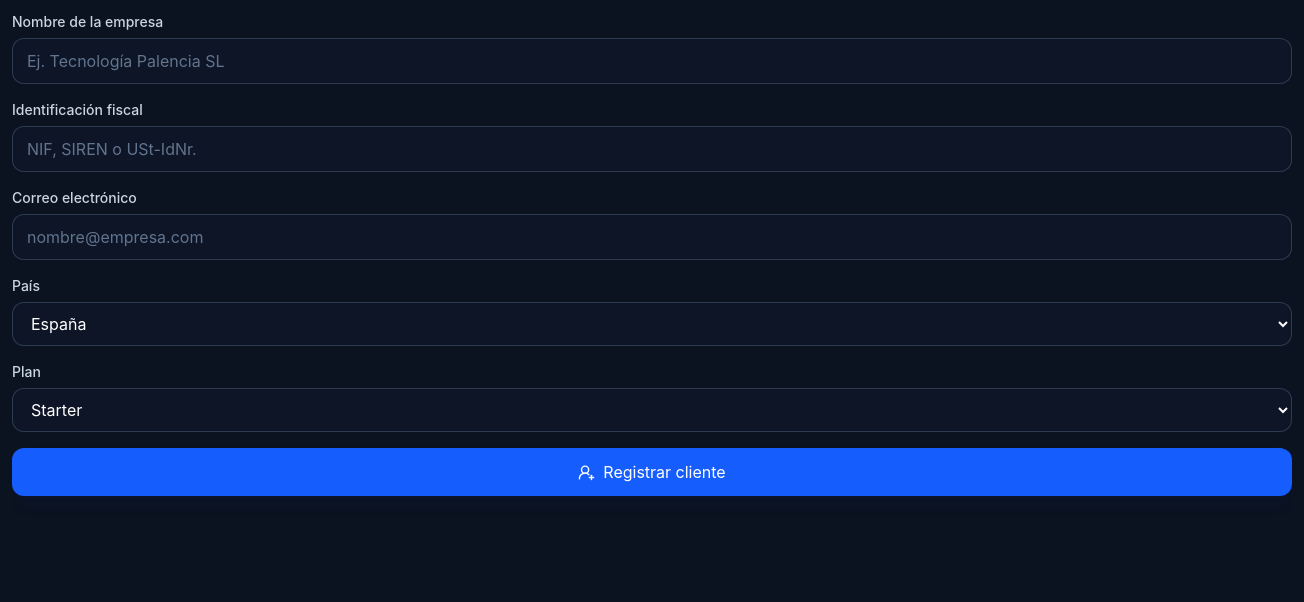
Test case: CustomerForm validation feedback › identifies an invalid country field
Step 1. Type "Empresa de prueba" into the field labelled "Nombre de la empresa" → (652, 61), box [12,38,1292,84]
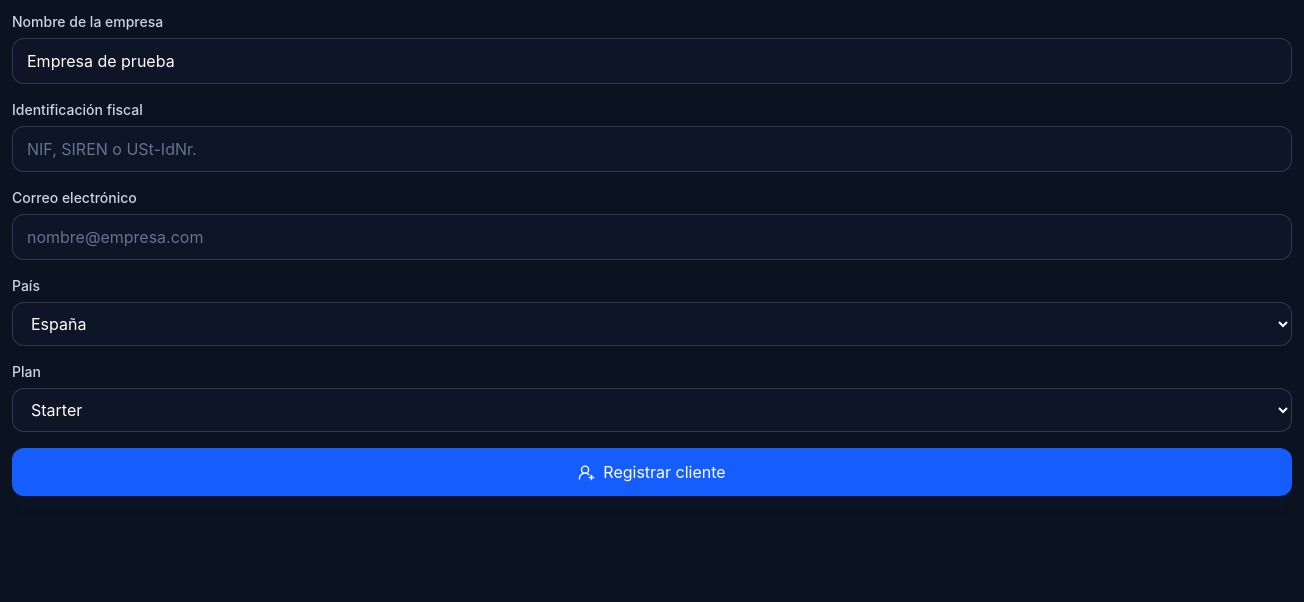
Step 2. Type "12345678Z" into the field labelled "Identificación fiscal" → (652, 149), box [12,126,1292,172]
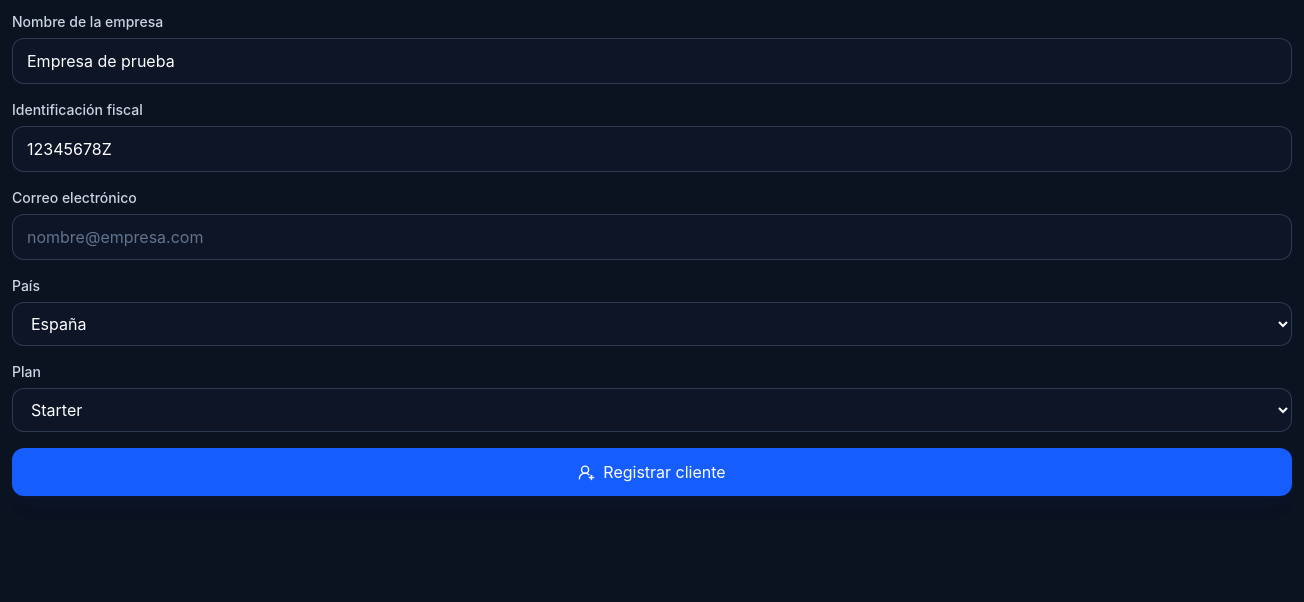
Step 3. Type "contacto@empresa.test" into the field labelled "Correo electrónico" → (652, 237), box [12,214,1292,260]
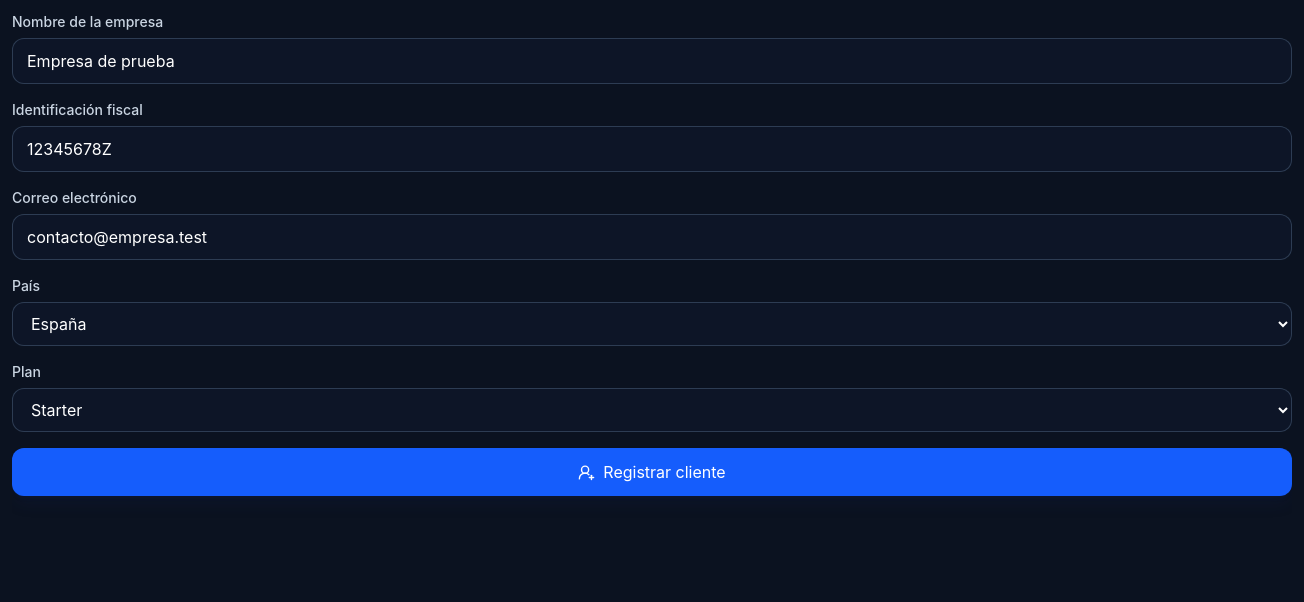
Step 4. Select "España" in the dropdown labelled "País" → (652, 324), box [12,302,1292,346]
Step 5. Submit the form named "Registrar cliente"
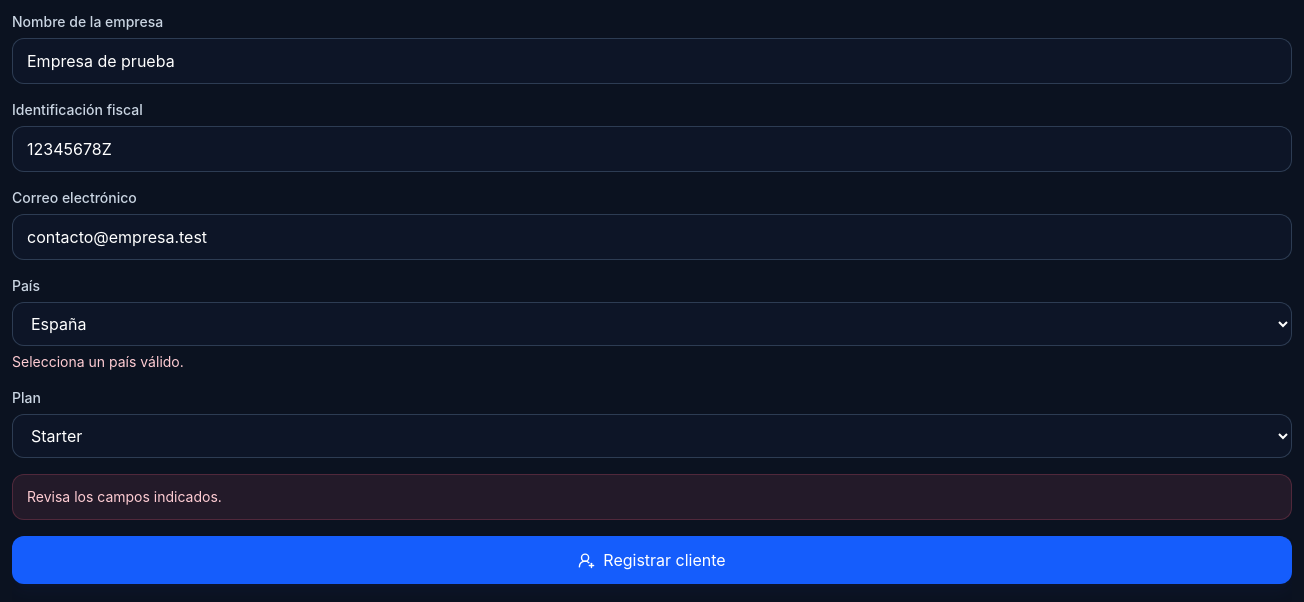
Expected: the text "Selecciona un país válido." is shown, [12,353,184,370]
Expected: the message reads "Revisa los campos indicados.", [27,488,222,505]
